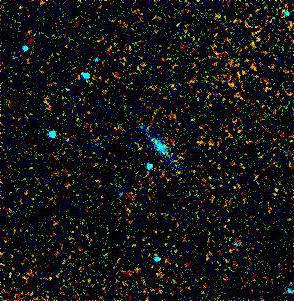star: (197, 132, 227, 162)
